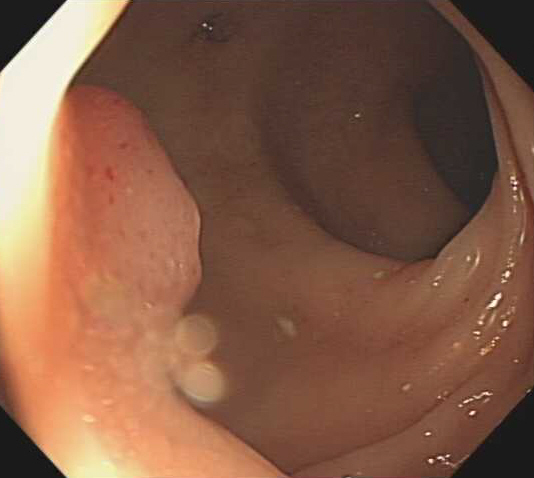adenoma: (59, 81, 206, 332)
